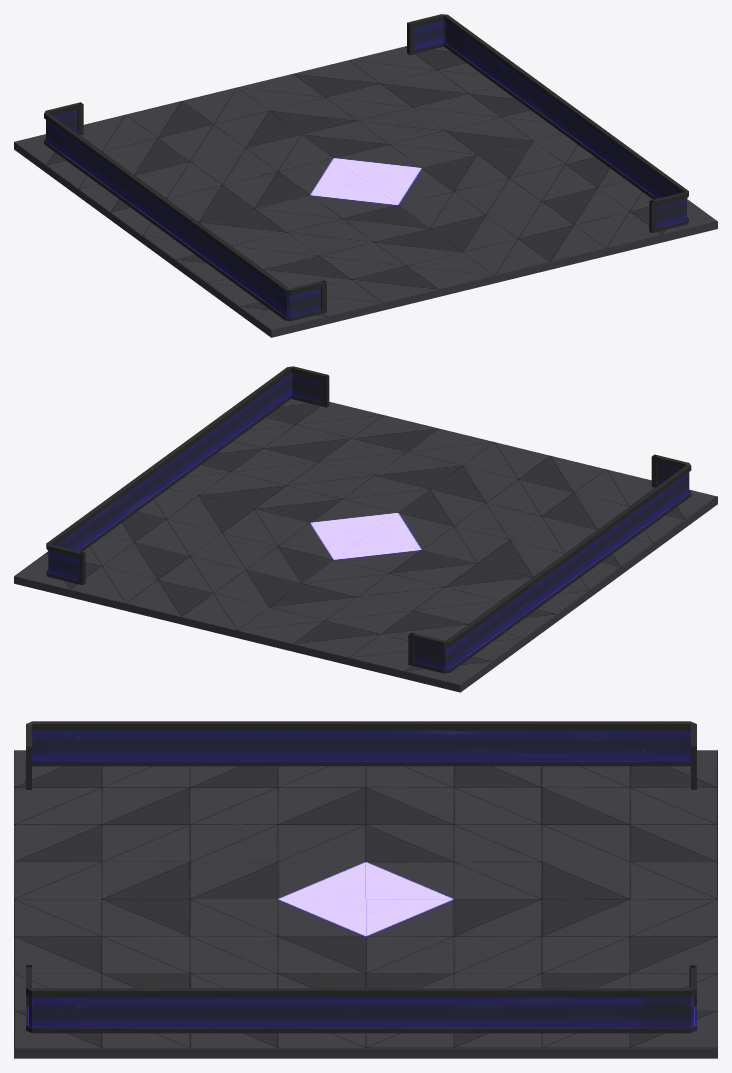
Rendered from Elevator (1).fbx.
3 renders of one model, top to bottom at view 1: azimuth 30°, elevation 25°; view 2: azimuth 150°, elevation 25°; view 3: azimuth 270°, elevation 25°, orthographic. The views are drawn at different scales.
Visible parts, largest first — view 1: Elevator; view 2: Elevator; view 3: Elevator.
Boxes of the visible parts, bbox=[...] form: Elevator: bbox=[14, 14, 717, 337]; Elevator: bbox=[14, 366, 717, 692]; Elevator: bbox=[14, 721, 717, 1058].
Size of the model in its own units: 571 by 47.05 by 570.
